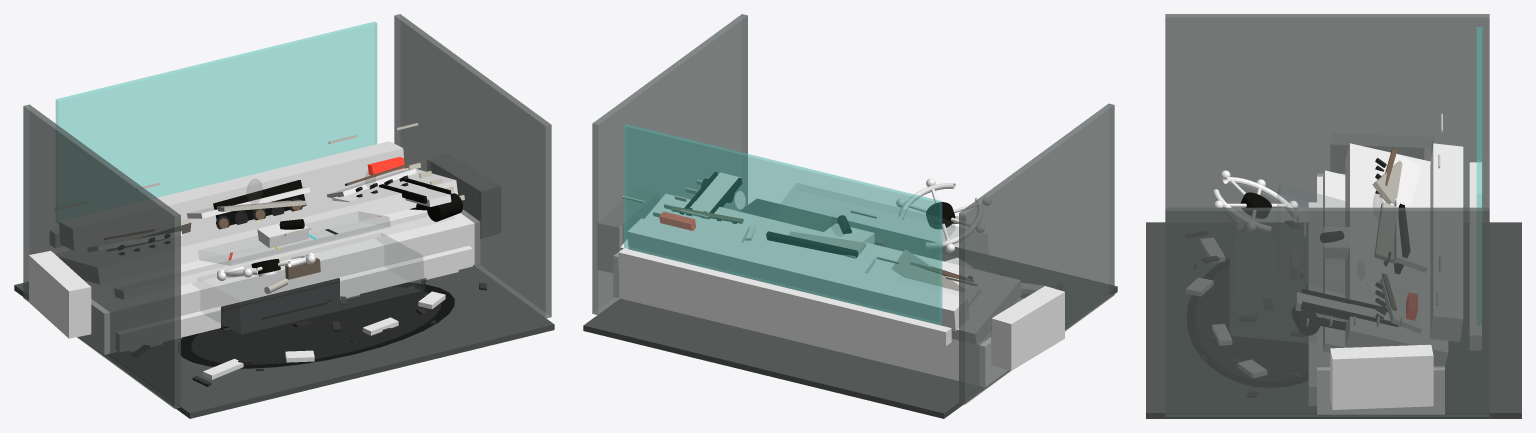
File: ck_dmg09.glb
The picture shows the model from 3 angles, left to right: view 1: azimuth 30°, elevation 25°; view 2: azimuth 150°, elevation 25°; view 3: azimuth 270°, elevation 25°; orthographic projection. The views are drawn at different scales.
Parts seen in each view (by area): view 1: context forward panorama screen proxy, context cockpit floor, context left cockpit wall proxy, context right cockpit wall proxy, single-piece heavy lower console base, ck02 floor blast scorch oval, sloped main control deck, raised rear instrument coaming, front armored lower kick plate, context normal console footprint ghost, recessed black hand rest strip, left angled side cheek (+10 smaller); view 2: context forward panorama screen proxy, context left cockpit wall proxy, context right cockpit wall proxy, context cockpit floor, single-piece heavy lower console base, raised rear instrument coaming, context forward lower frame, sloped main control deck, left angled side cheek, central blank armored control plate, right angled side cheek, ck02 source lifted left switch panel (+7 smaller); view 3: context right cockpit wall proxy, context left cockpit wall proxy, context cockpit floor, sloped main control deck, right angled side cheek, raised rear instrument coaming, single-piece heavy lower console base, recessed black hand rest strip, left angled side cheek, context forward lower frame, central blank armored control plate, ck02 floor blast scorch oval (+15 smaller).
Part boxes in pixels (x1,y1,x2,y2): context forward panorama screen proxy: (55,21,377,197); context cockpit floor: (14,265,554,418); context left cockpit wall proxy: (23,104,180,408); context right cockpit wall proxy: (394,14,551,318); single-piece heavy lower console base: (80,209,480,354); ck02 floor blast scorch oval: (178,282,454,368); sloped main control deck: (55,167,457,283); raised rear instrument coaming: (59,141,404,250); front armored lower kick plate: (116,246,472,351); context normal console footprint ghost: (205,233,424,334); recessed black hand rest strip: (114,212,454,299); left angled side cheek: (29,251,91,338); context forward panorama screen proxy: (624,124,942,324); context left cockpit wall proxy: (959,103,1114,404); context right cockpit wall proxy: (592,14,747,314); context cockpit floor: (583,198,1117,418); single-piece heavy lower console base: (613,252,1022,387); raised rear instrument coaming: (627,218,968,331); context forward lower frame: (618,248,951,346); sloped main control deck: (620,194,1021,343); left angled side cheek: (991,286,1064,370); central blank armored control plate: (758,236,875,273); right angled side cheek: (598,200,623,272); ck02 source lifted left switch panel: (891,249,965,291); context right cockpit wall proxy: (1165,207,1489,416); context left cockpit wall proxy: (1165,14,1489,221); context cockpit floor: (1146,222,1521,418); sloped main control deck: (1345,143,1447,365); right angled side cheek: (1330,344,1433,409); raised rear instrument coaming: (1430,143,1463,341); single-piece heavy lower console base: (1317,173,1444,414); recessed black hand rest strip: (1323,170,1344,352); left angled side cheek: (1330,133,1433,173); context forward lower frame: (1469,162,1481,350); central blank armored control plate: (1394,200,1427,272); ck02 floor blast scorch oval: (1187,259,1307,387).
Bounding box in the file's own units: 5.69 × 2.5 × 4.
